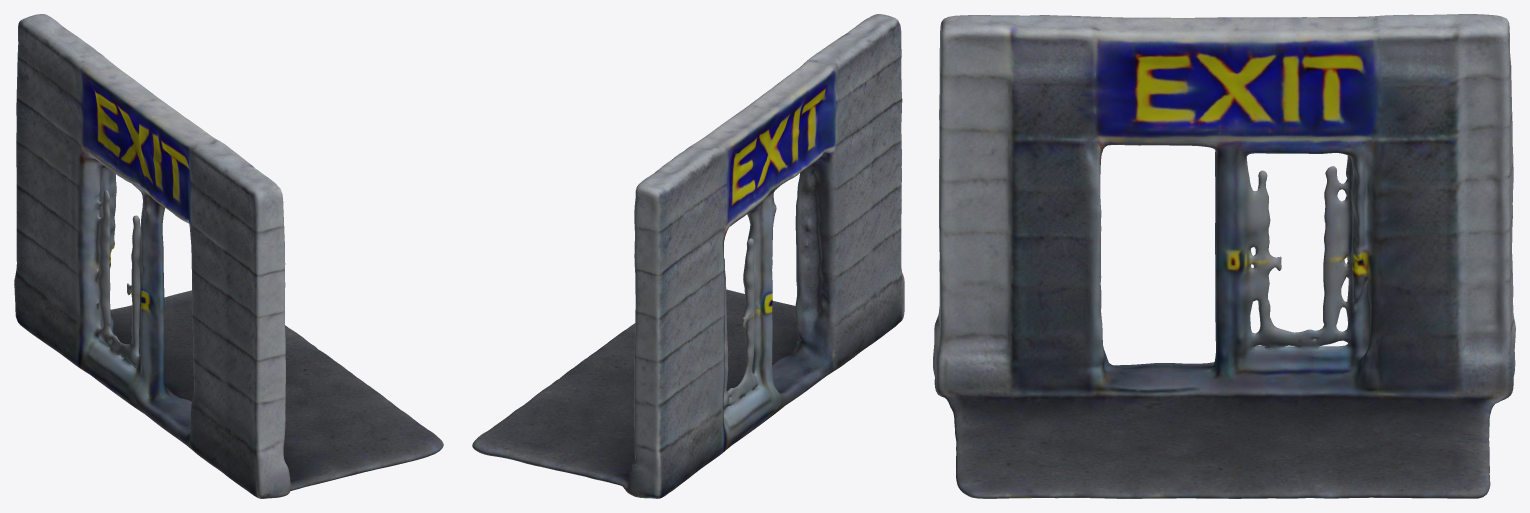
Rendered from f0eaffd5600b_exit_min.fbx.
3 views of the same model, side by side, from view 1: azimuth 30°, elevation 25°; view 2: azimuth 150°, elevation 25°; view 3: azimuth 270°, elevation 25° (orthographic). The views are drawn at different scales.
Parts seen in each view (by area): view 1: high_poly; view 2: high_poly; view 3: high_poly.
Part boxes in pixels (x1,y1,x2,y2): high_poly: [14, 14, 443, 498]; high_poly: [472, 14, 904, 498]; high_poly: [933, 14, 1515, 498].
Bounding box in the file's own units: 48.01 × 71.18 × 100.
